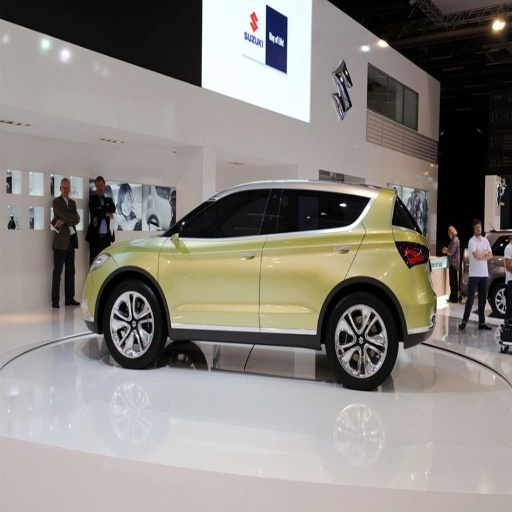back_bumper: (399, 286, 435, 336)
back_left_door: (260, 187, 359, 331)
